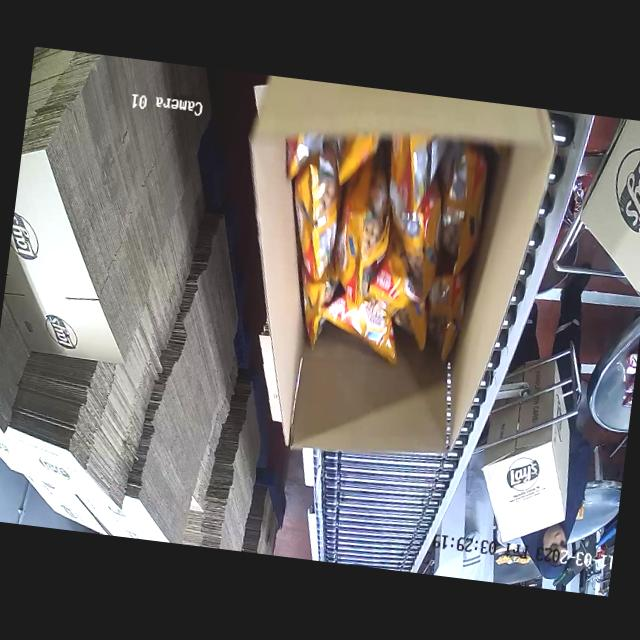cheese: (282, 122, 474, 361)
